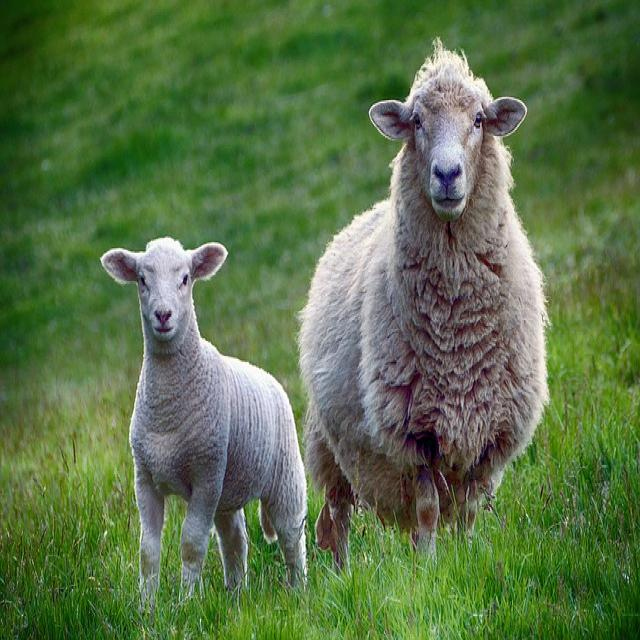goat: (298, 37, 550, 574), (99, 238, 309, 604)
